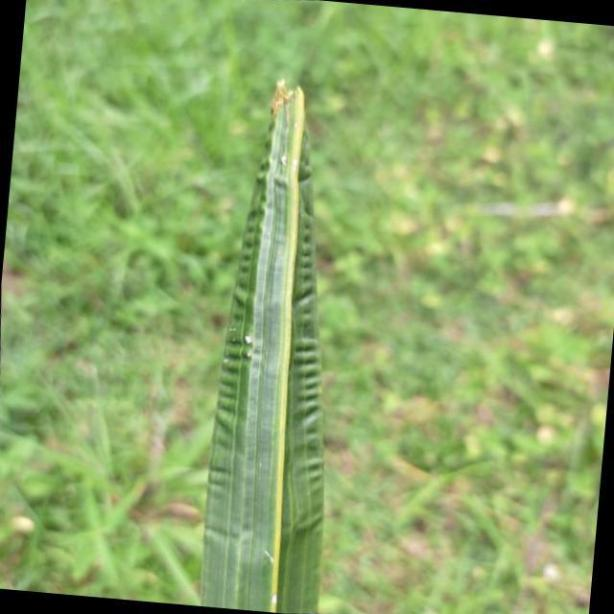Boron: (200, 77, 331, 614)
